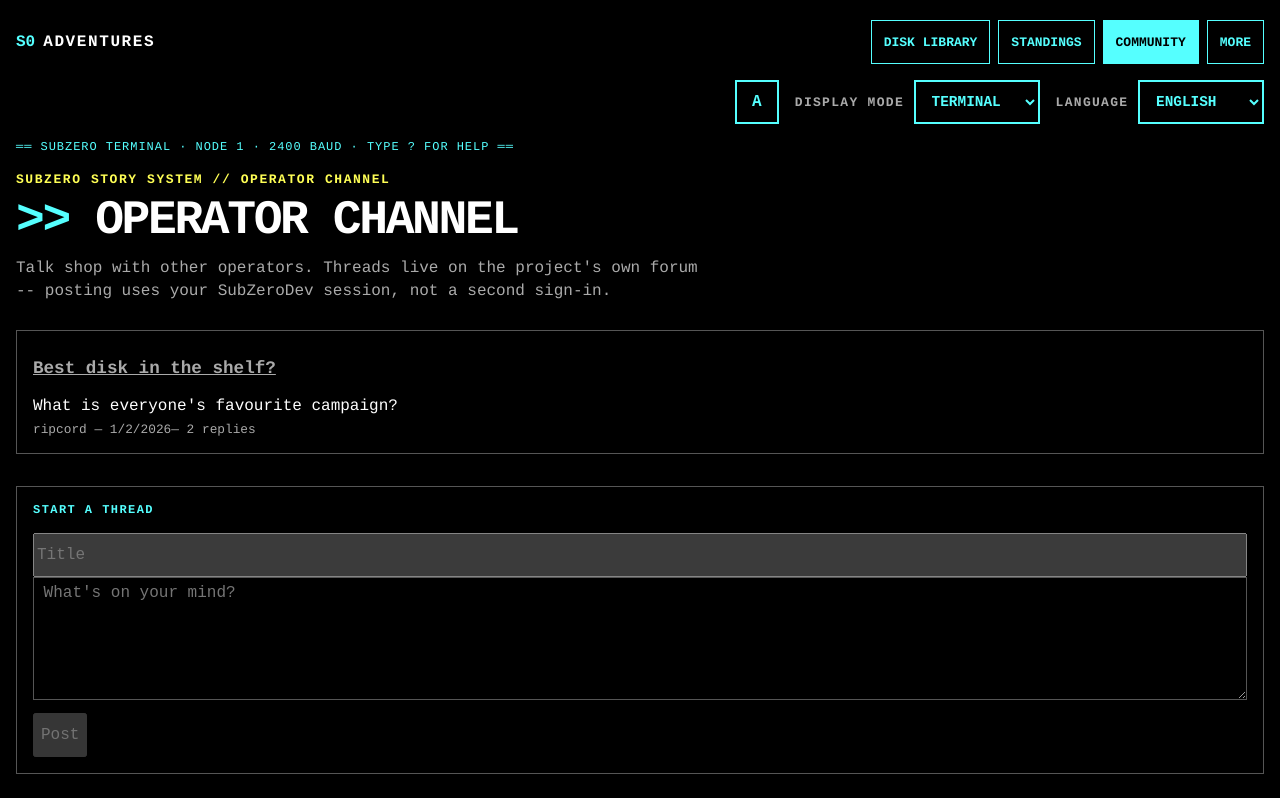
Scenario: Discussions › shows the compose form for a member and posts a new thread
expect the link "Best disk in the shelf?" is shown: met, box [33,359,276,379]
Type "A new thread" into the field with placeholder "Title".
click(640, 555); type("A new thread")  # box [33,533,1247,577]
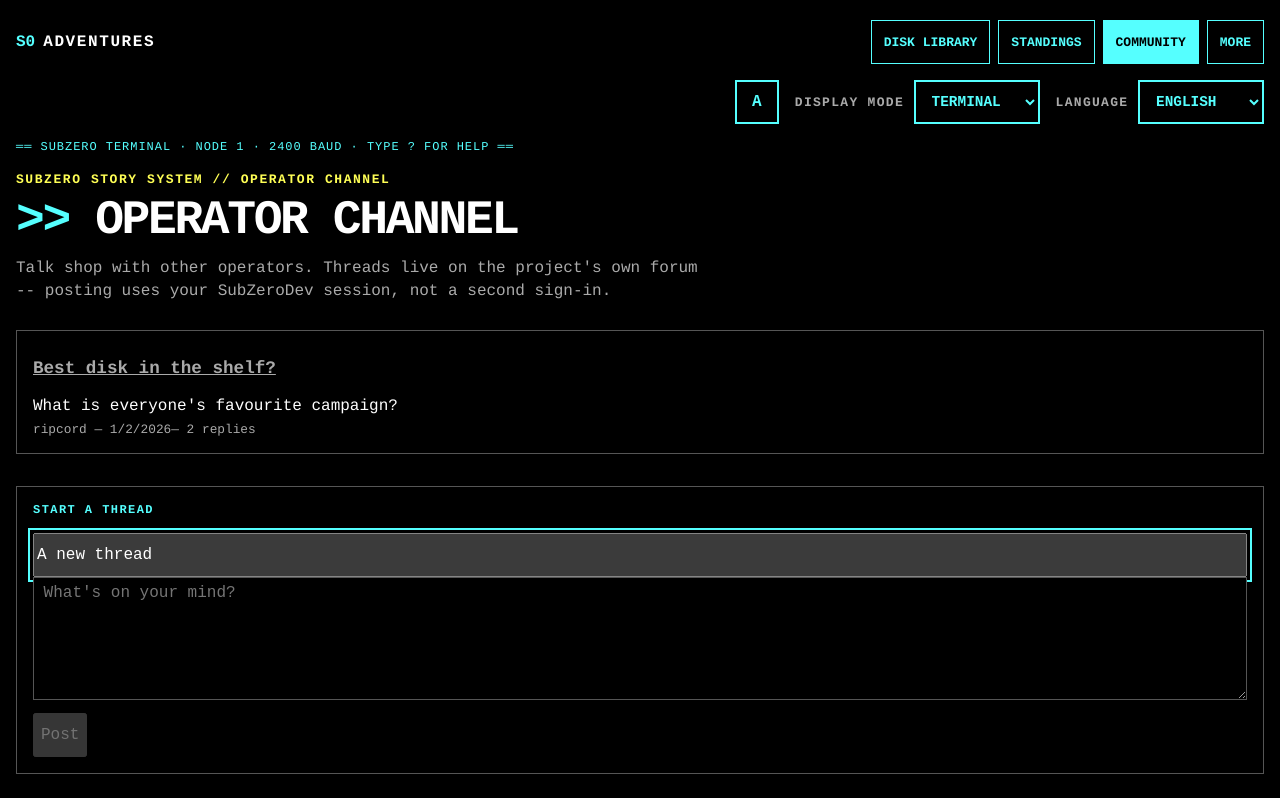
Type "hello" into the text box with placeholder "What's on your mind?".
click(640, 638); type("hello")  # box [33,577,1247,700]
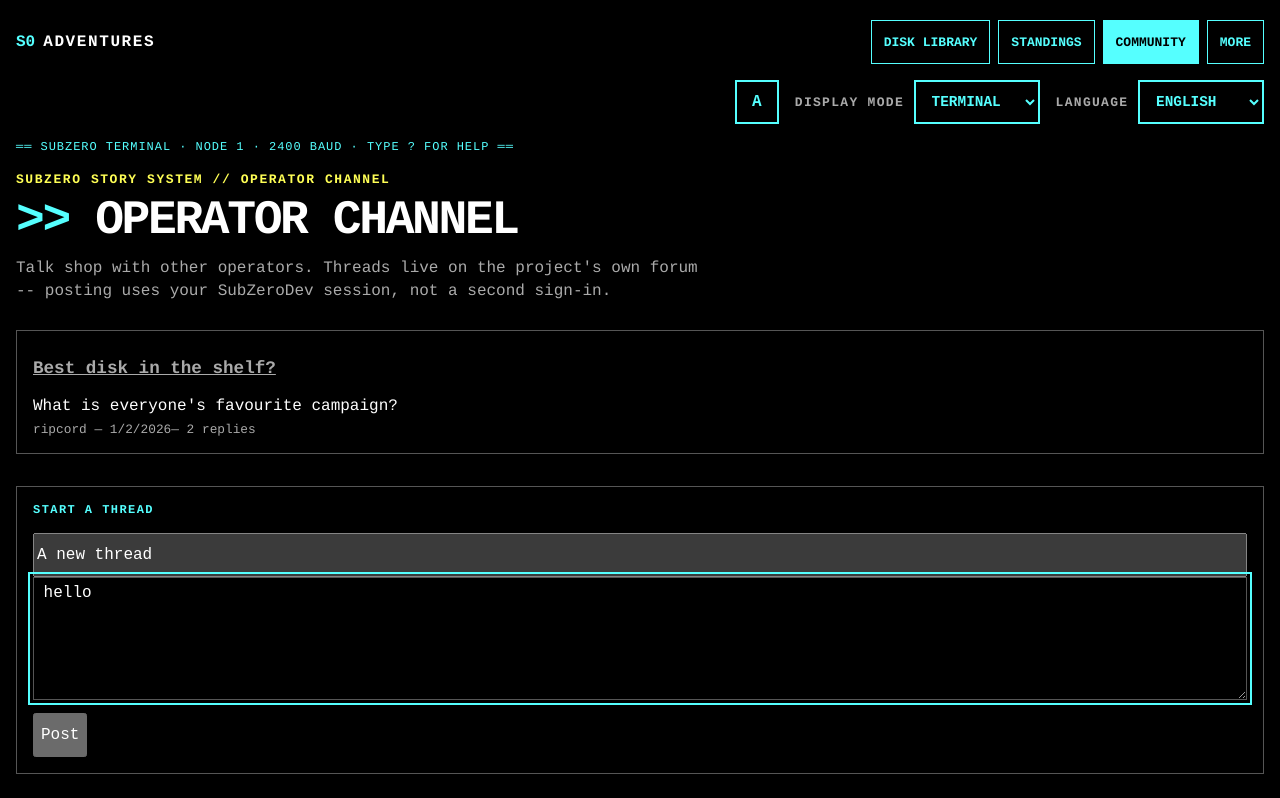
Click the button "Post".
click(60, 734)  # box [33,712,87,756]
(page scrolled)
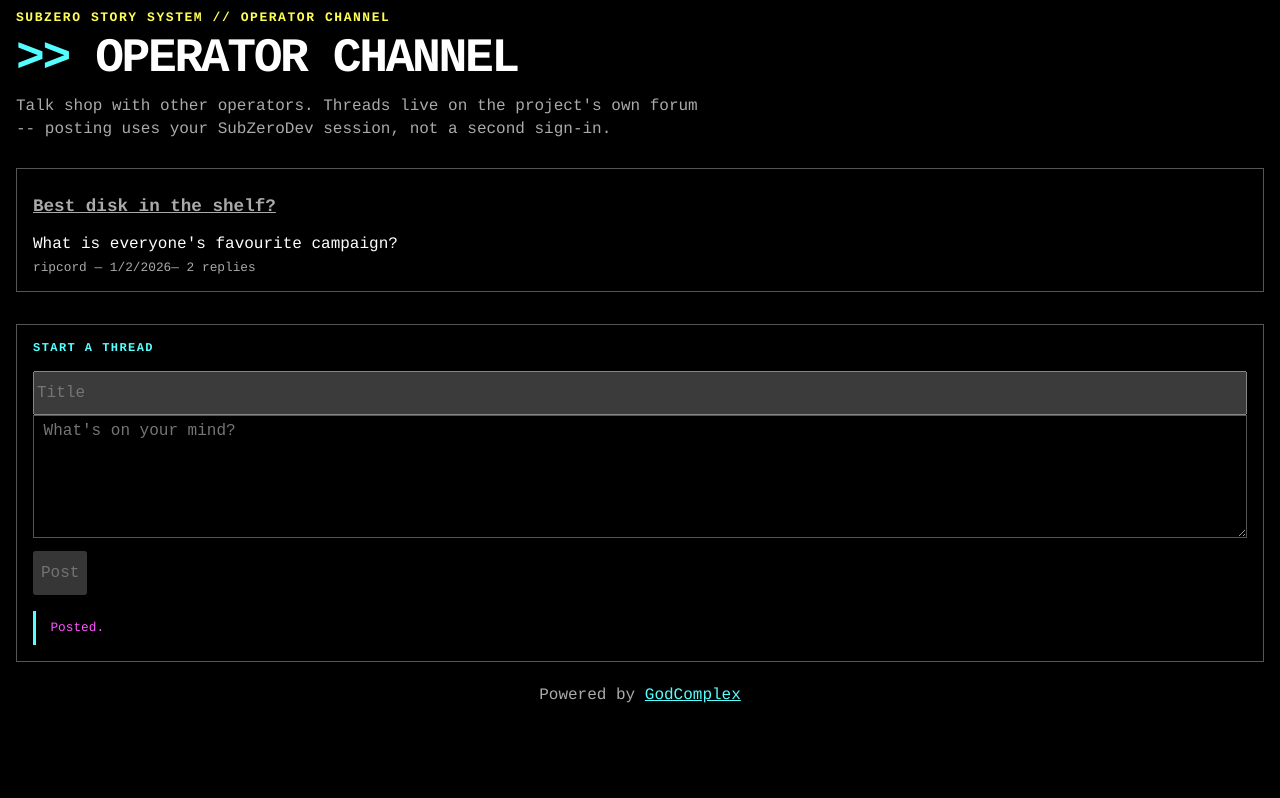
expect the text "Posted." is shown: met, box [33,610,1247,645]
